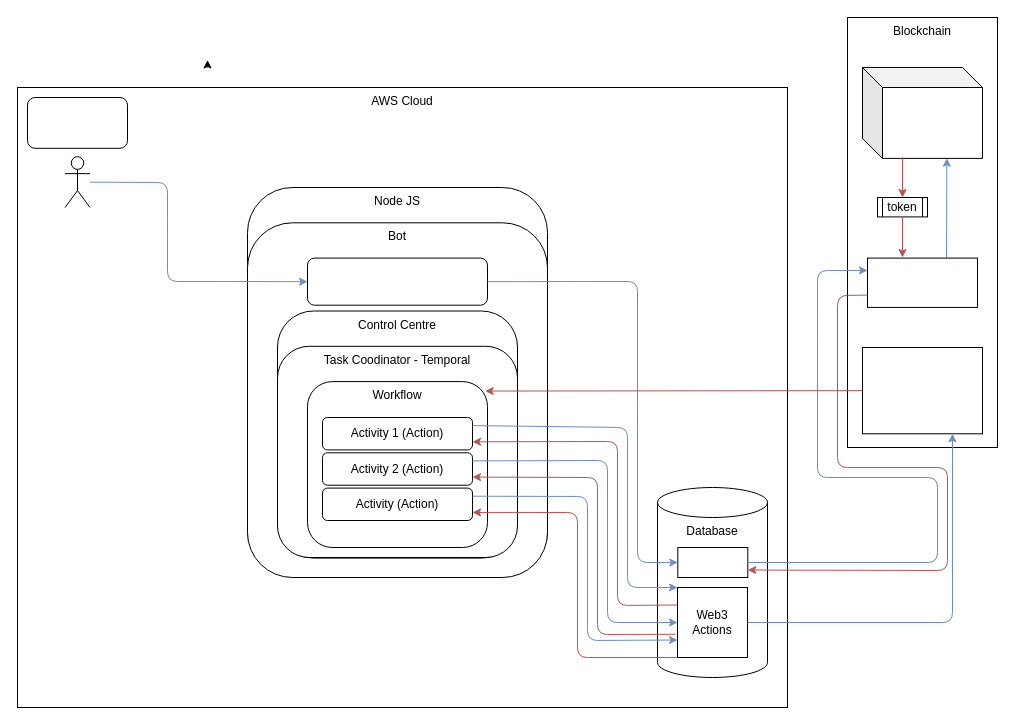
The diagram is 1015 pixels wide and 725 high, and some of its shapes have lost their labels. The centre of each missing label's shape, as x and y in pixels:
EIP-4626 Vault: the point at 922,112
Front-end UI React JS: the point at 77,122
Transactions: the point at 922,390
User: the point at 77,182
User & Wallet Generation: the point at 397,281
Users: the point at 712,562
Wallet: the point at 922,282
